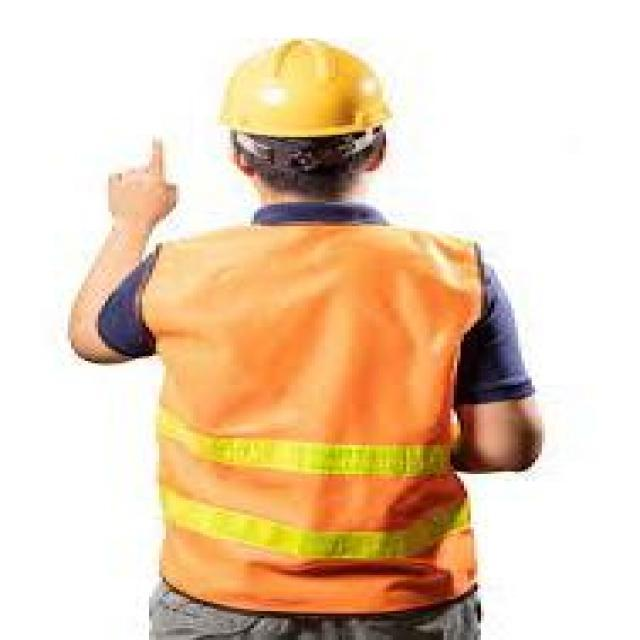reflective_jacket: (125, 214, 507, 616)
safety_helmet: (203, 30, 413, 149)
